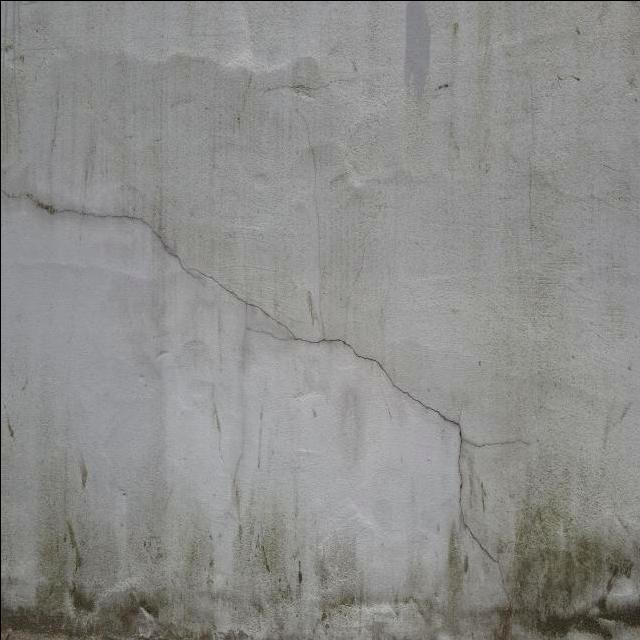SurfaceCrack: (0, 143, 523, 486)
